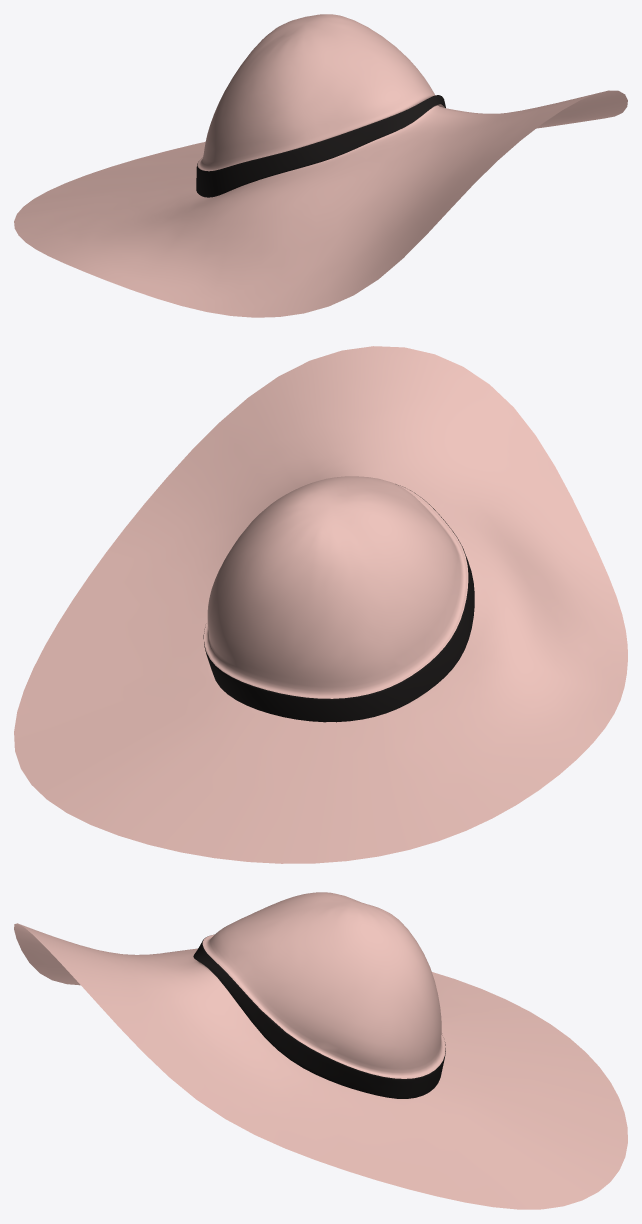
Rendered from headwear-hat-d30179fc.glb.
3 renders of one model, top to bottom at view 1: azimuth 30°, elevation 25°; view 2: azimuth 150°, elevation 25°; view 3: azimuth 270°, elevation 25°, orthographic. The views are drawn at different scales.
Visible parts, largest first — view 1: Geo_Female_White_Hat.001; view 2: Geo_Female_White_Hat.001; view 3: Geo_Female_White_Hat.001.
Boxes of the visible parts, x1,y1,x2,y2 form: Geo_Female_White_Hat.001: (14, 14, 627, 317); Geo_Female_White_Hat.001: (14, 346, 627, 863); Geo_Female_White_Hat.001: (14, 892, 627, 1209).
Bounding box in the file's own units: 4.5 × 2.09 × 4.92.
